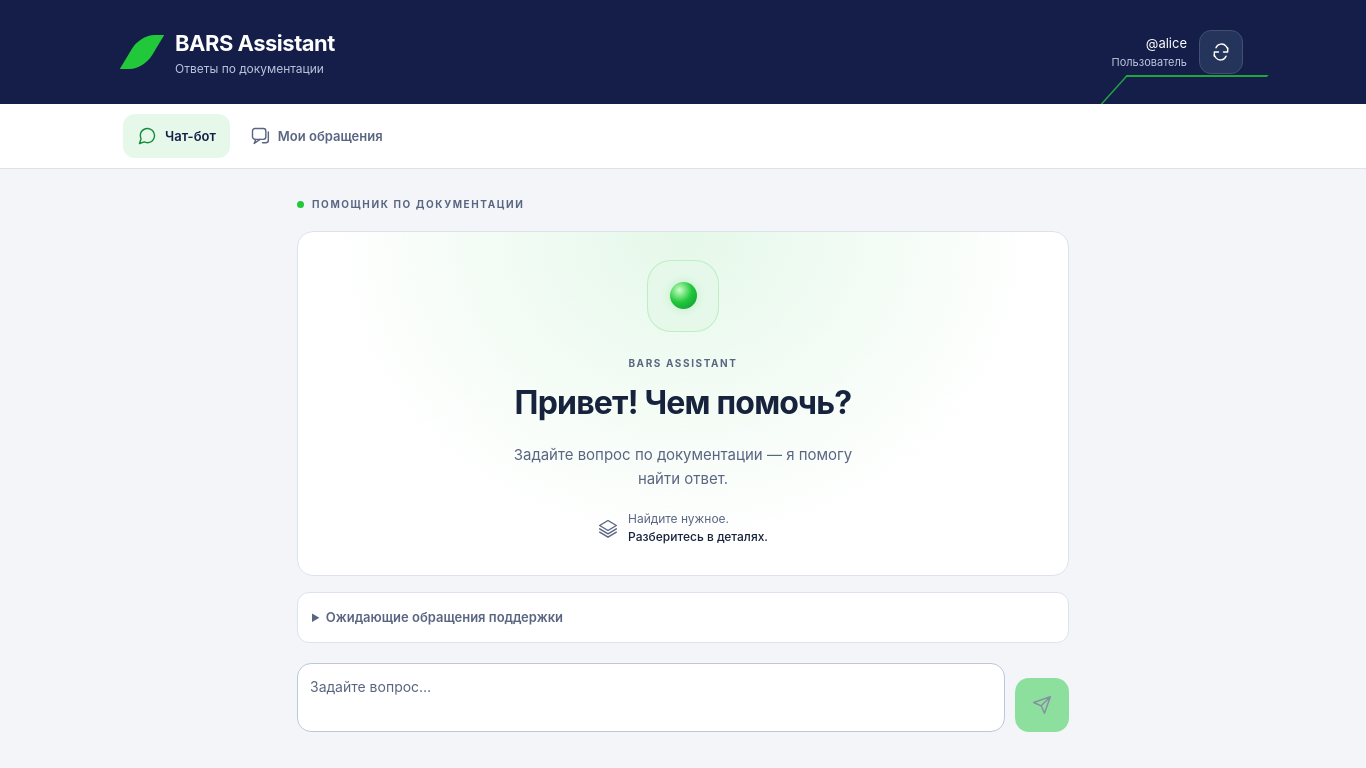
Test case: support and ticket chat › opens own ticket and sends a message with a server-owned author
expect the heading "Привет! Чем помочь?" is shown: met, box [515,383,851,423]
Click the button "Мои обращения": (316, 136) [236,114,396,158]
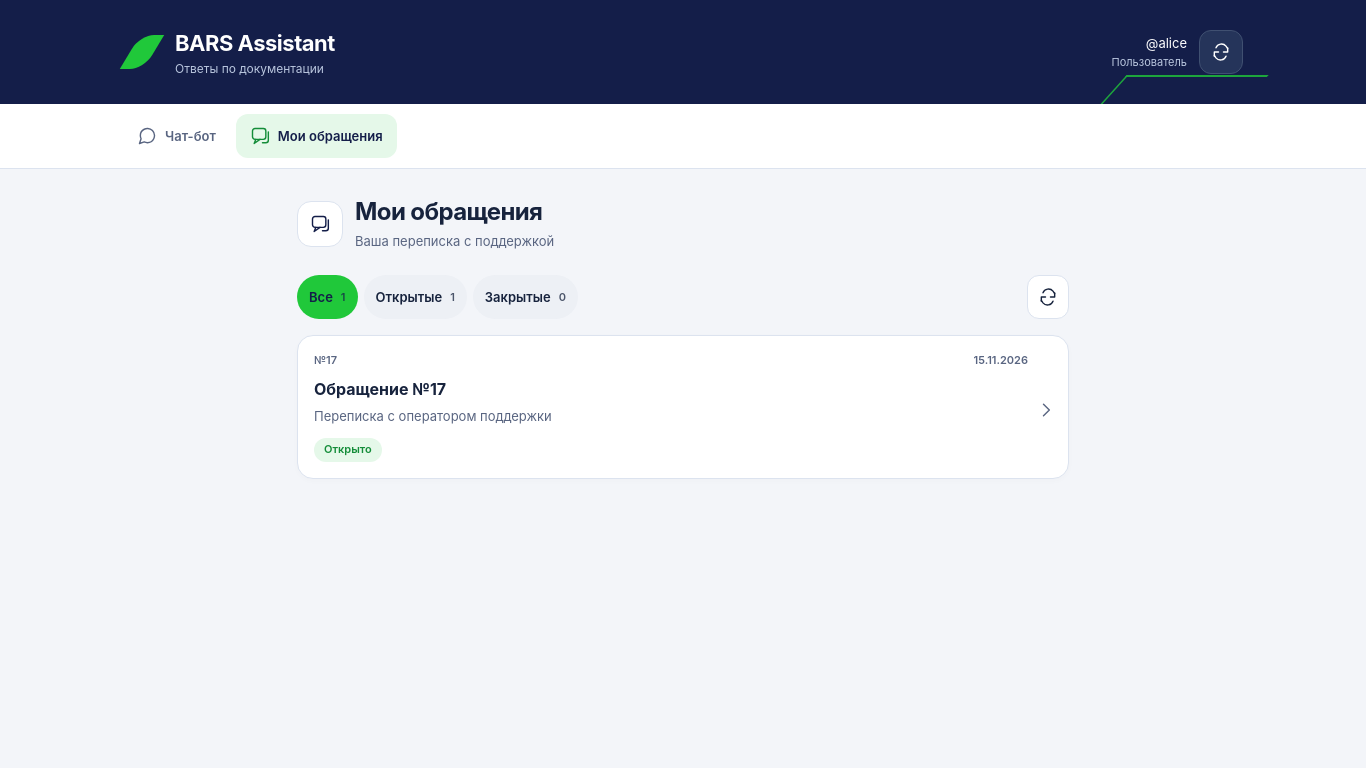
Click the button "Обращение №17": (1001, 360) [297,335,1069,478]
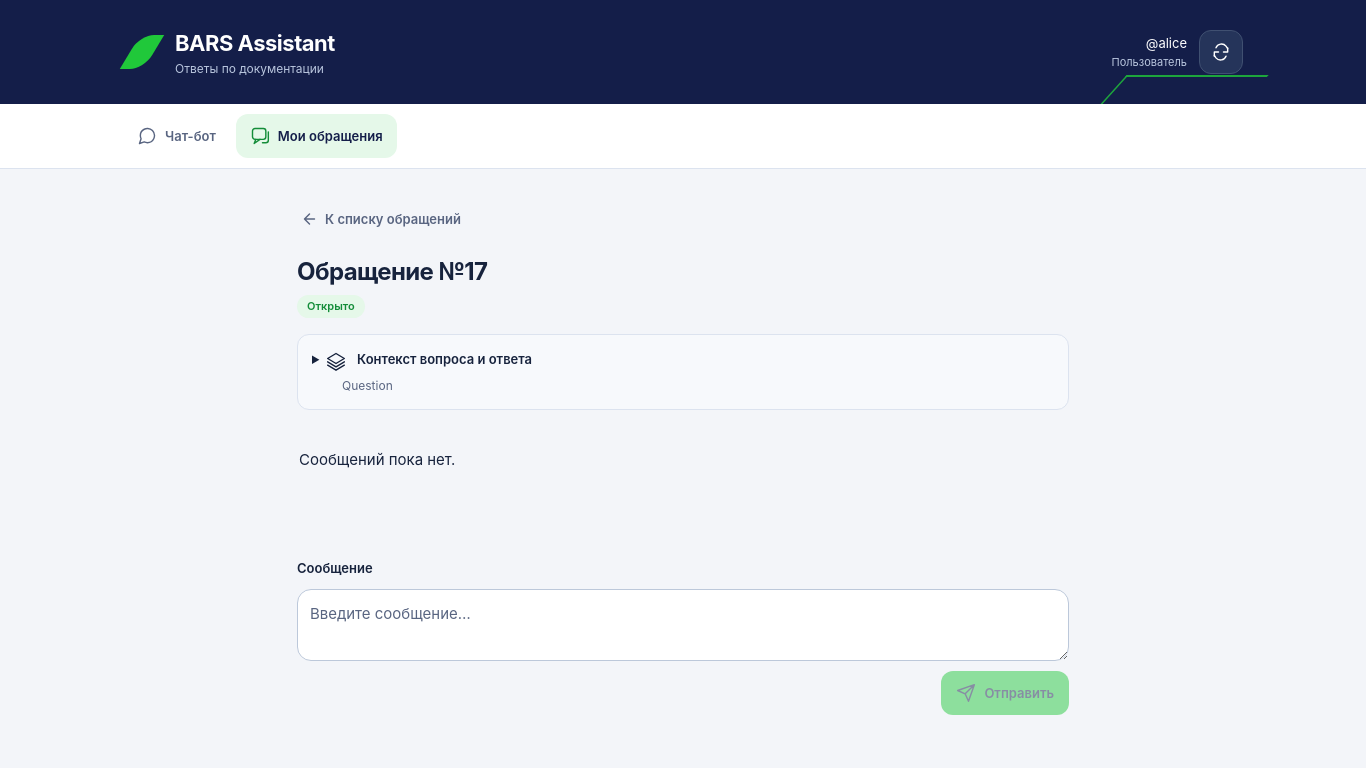
expect the text box labelled "Сообщение" is shown: met
In the text box labelled "Сообщение": (683, 625) [297,589,1069,661], type "Details"
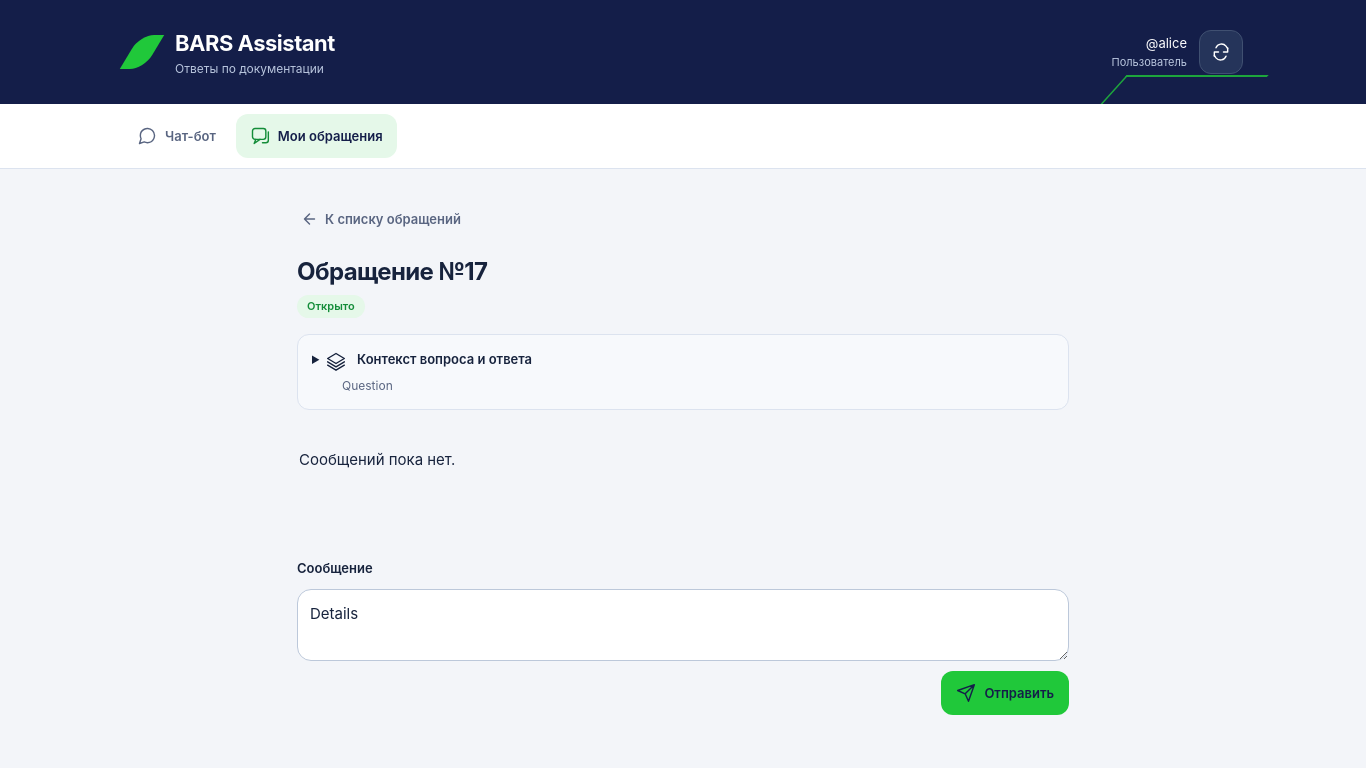
Click the button "Отправить": (1005, 693) [941,671,1069,715]
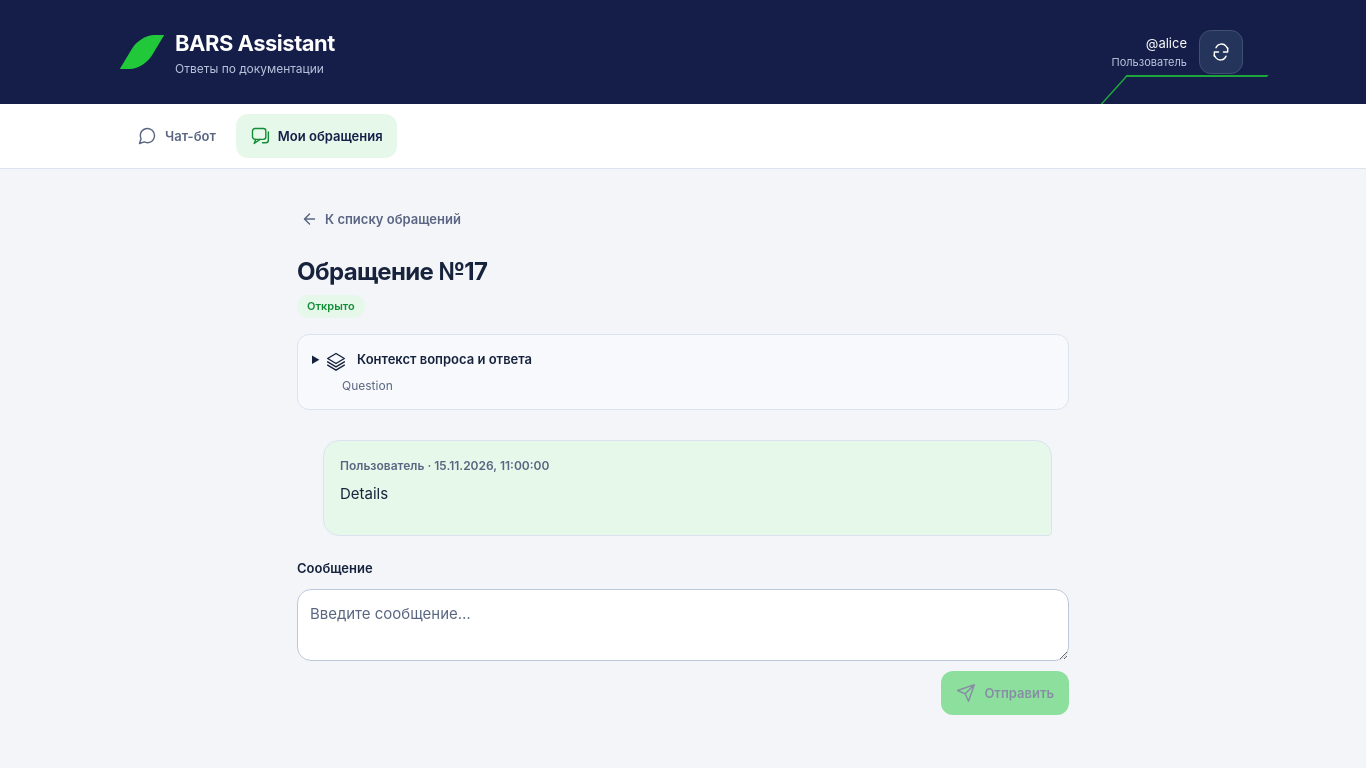
expect the text "Details" is shown: met, box [340,484,388,503]
